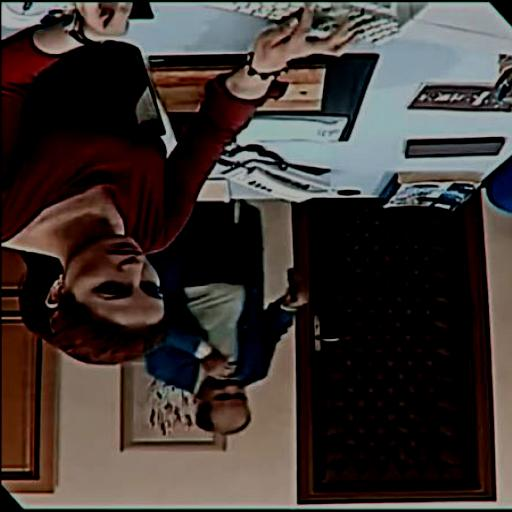Dalanda: (48, 229, 163, 329)
beji_matrix: (197, 378, 250, 435)
